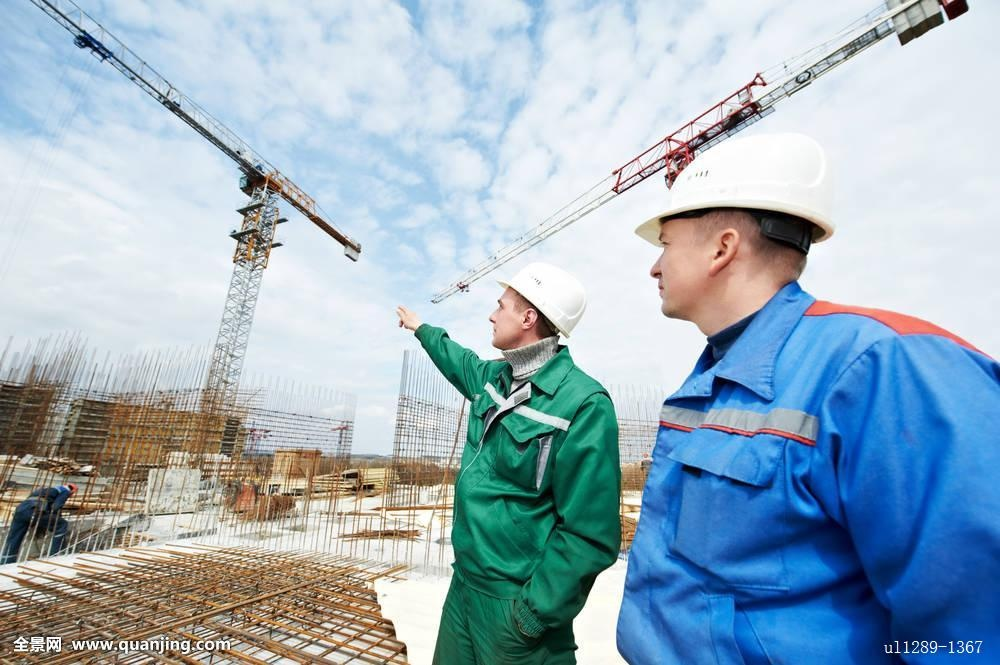white: (634, 132, 834, 329), (479, 261, 585, 359)
